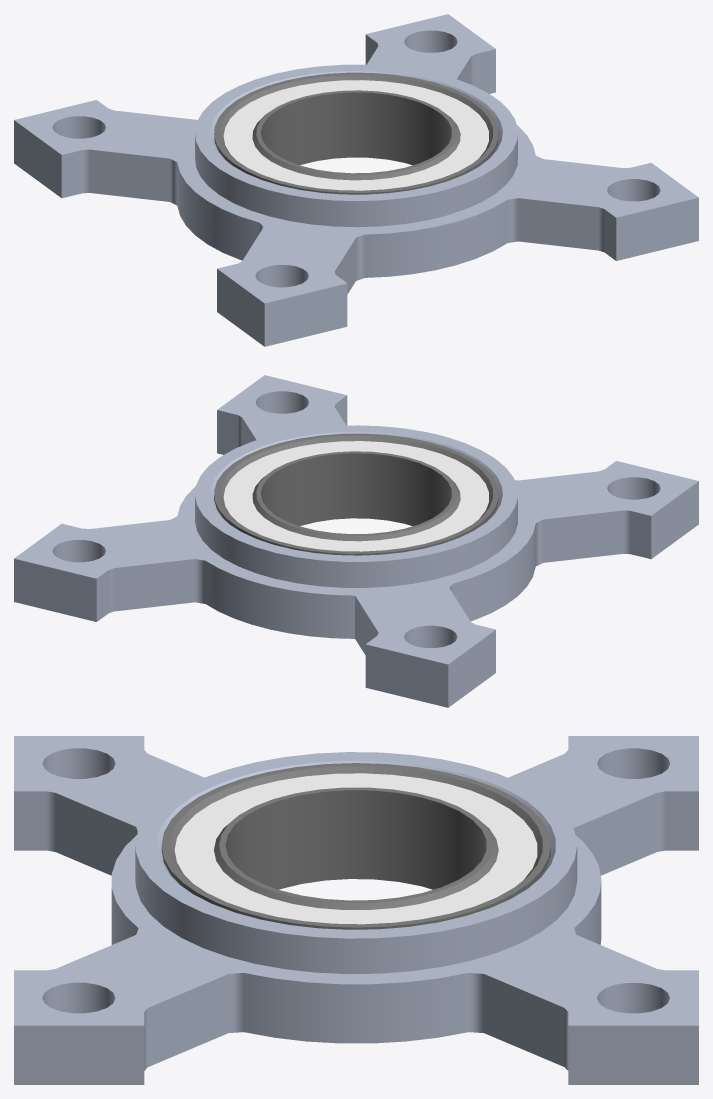
The model's file is ROB-12502.obj.
3 views of the same model, one above another, from view 1: azimuth 30°, elevation 25°; view 2: azimuth 150°, elevation 25°; view 3: azimuth 270°, elevation 25° (orthographic). The views are drawn at different scales.
Parts seen in each view (by area): view 1: mesh 1 RO, mesh 2 Boss-Extrude3, mesh 3 Chamfer2; view 2: mesh 1 RO, mesh 2 Boss-Extrude3, mesh 3 Chamfer2; view 3: mesh 1 RO, mesh 2 Boss-Extrude3, mesh 3 Chamfer2.
Part boxes in pixels (box(x1,y1,x2,y2)): mesh 1 RO: box(14, 14, 698, 346); mesh 2 Boss-Extrude3: box(214, 72, 498, 194); mesh 3 Chamfer2: box(223, 80, 488, 190); mesh 1 RO: box(14, 375, 698, 707); mesh 2 Boss-Extrude3: box(214, 433, 498, 555); mesh 3 Chamfer2: box(223, 441, 488, 551); mesh 1 RO: box(14, 736, 698, 1084); mesh 2 Boss-Extrude3: box(161, 763, 550, 929); mesh 3 Chamfer2: box(174, 773, 537, 924).
Bounding box in the file's own units: 0.0333 × 0.00508 × 0.0333.
